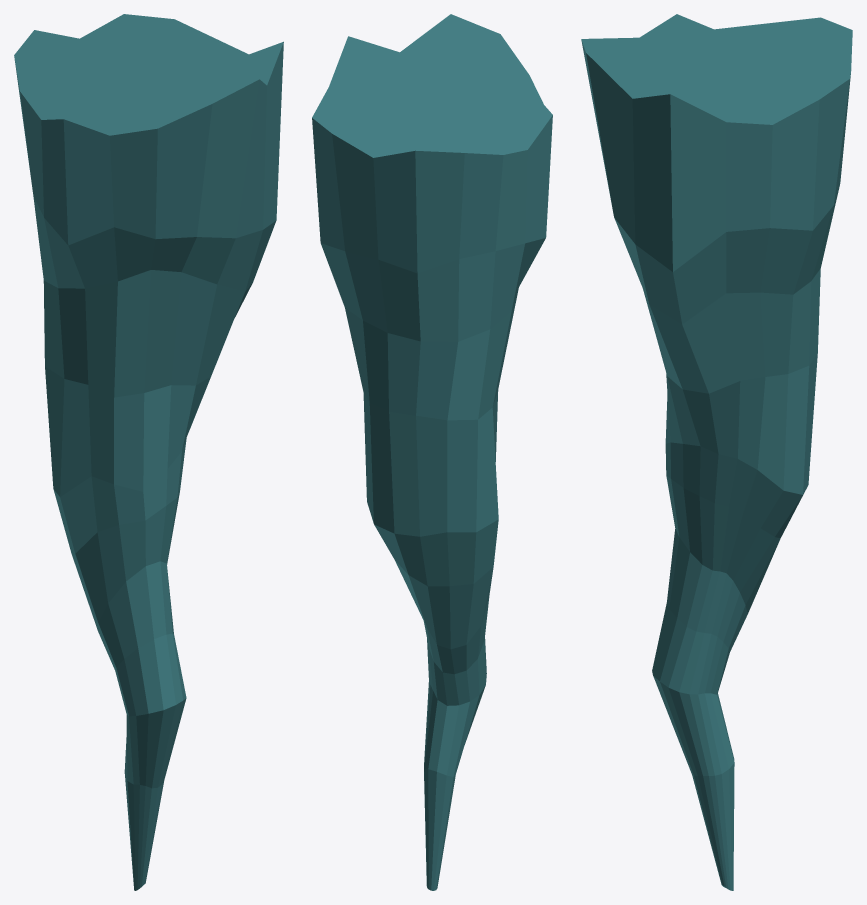
The model's file is Eiszapfen_Animation.glb.
3 views of the same model, side by side, from view 1: azimuth 30°, elevation 25°; view 2: azimuth 150°, elevation 25°; view 3: azimuth 270°, elevation 25° (orthographic). The views are drawn at different scales.
Visible parts, largest first — view 1: Cylinder; view 2: Cylinder; view 3: Cylinder.
Part boxes in pixels (box(x1,y1,x2,y2)): Cylinder: box(14, 14, 283, 890); Cylinder: box(312, 14, 552, 890); Cylinder: box(581, 14, 852, 890).
Bounding box in the file's own units: 1.88 × 7.04 × 2.
